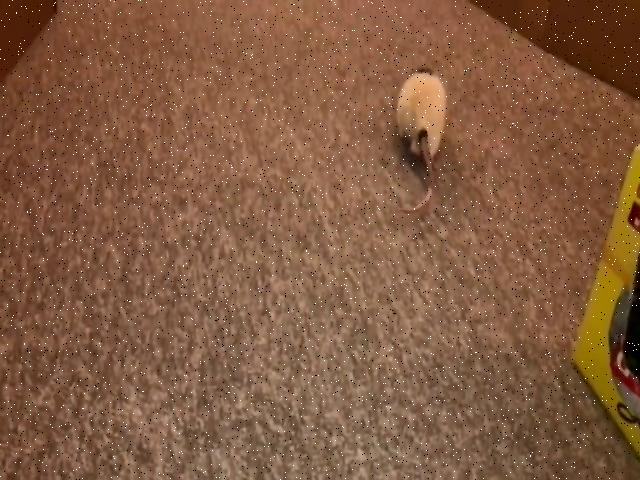Tikus: (394, 63, 448, 214)
